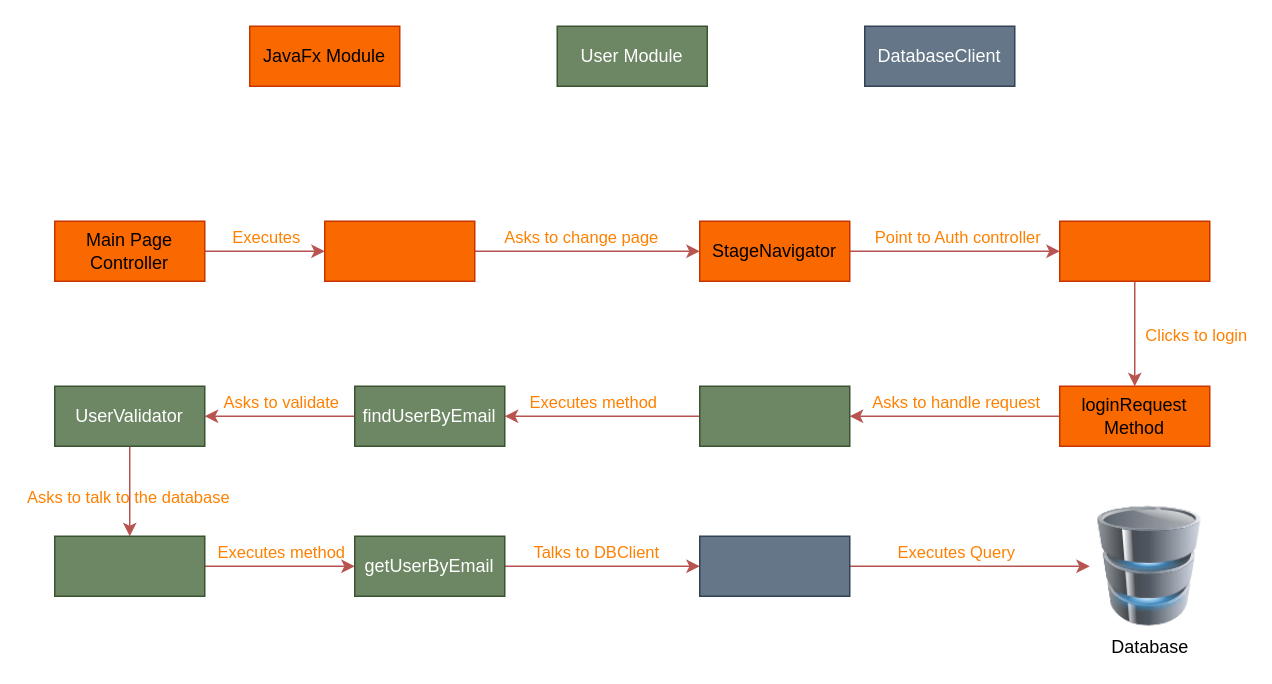
This 1272x684 diagram has some shape labels left out. The box of each missing label's shape, as (x1, y1, x2, y2) in pixels:
Auth Page: (1058, 220, 1210, 281)
Change to Login page: (323, 220, 475, 281)
DBClient: (698, 535, 850, 596)
UserController: (698, 385, 850, 446)
UserRepository: (53, 535, 205, 596)
